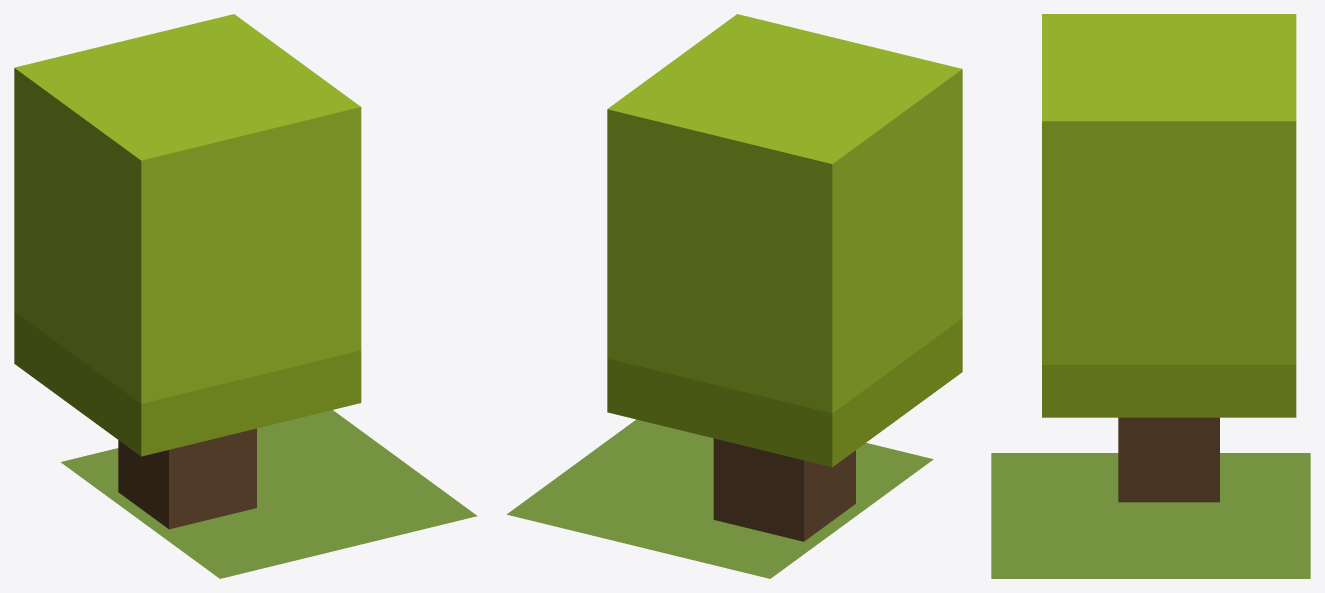
The model's file is tree.obj.
The picture shows the model from 3 angles, left to right: view 1: azimuth 30°, elevation 25°; view 2: azimuth 150°, elevation 25°; view 3: azimuth 270°, elevation 25°; orthographic projection. The views are drawn at different scales.
Size of the model in its own units: 0.99 by 1.28 by 0.88.
